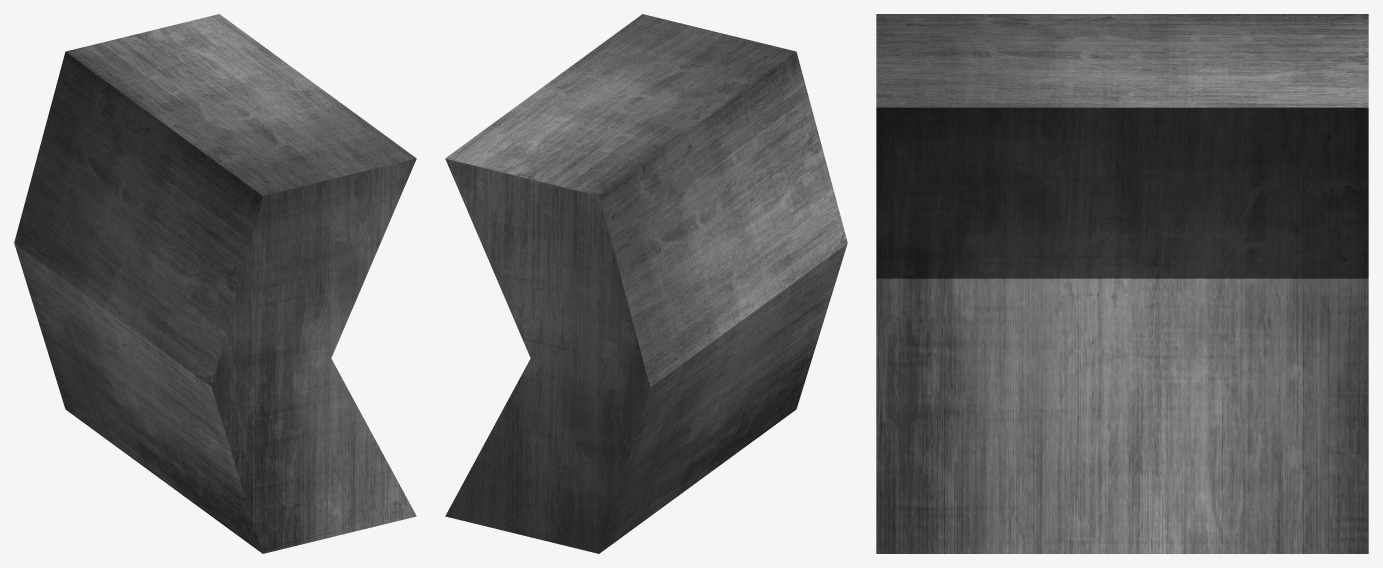
The model's file is lapa.obj.
The picture shows the model from 3 angles, left to right: view 1: azimuth 30°, elevation 25°; view 2: azimuth 150°, elevation 25°; view 3: azimuth 270°, elevation 25°; orthographic projection. The views are drawn at different scales.
Size of the model in its own units: 1.2 by 2 by 2.
Materials: 1 (1 with a texture image).
